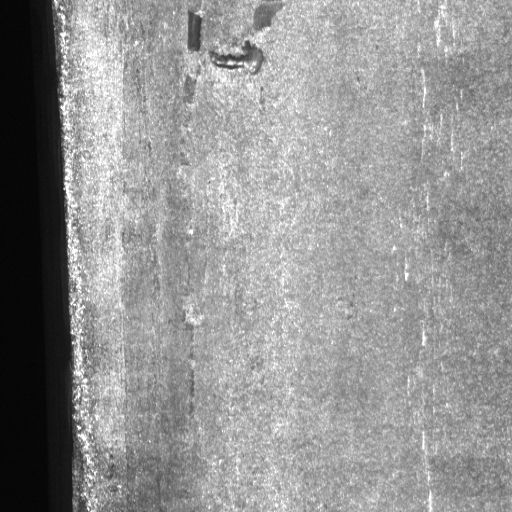qiaopi: (206, 39, 265, 78)
